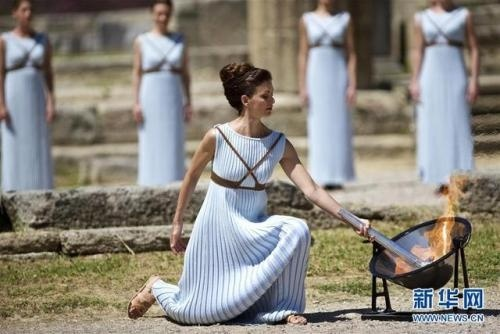fire: (389, 171, 472, 274)
